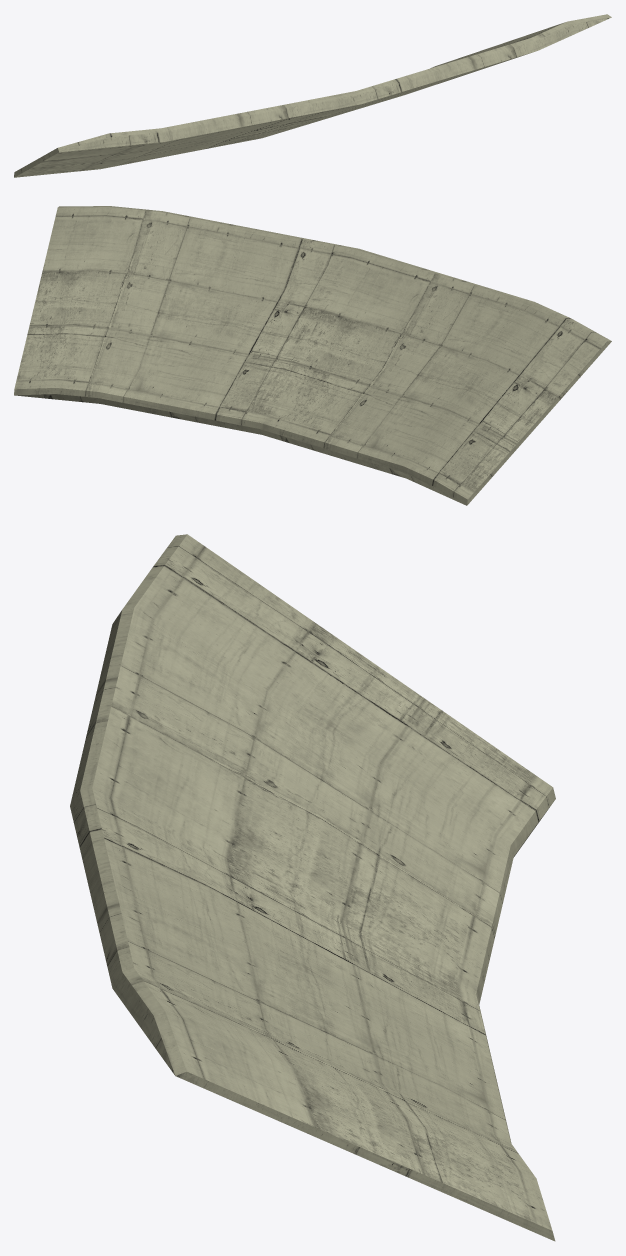
The model's file is SM_Republic_05_Cart02.fbx.
3 renders of one model, top to bottom at view 1: azimuth 30°, elevation 25°; view 2: azimuth 150°, elevation 25°; view 3: azimuth 270°, elevation 25°, orthographic. The views are drawn at different scales.
Parts seen in each view (by area): view 1: SM_Republic_05_Cart02.001; view 2: SM_Republic_05_Cart02.001; view 3: SM_Republic_05_Cart02.001.
Boxes of the visible parts, x1=… form: SM_Republic_05_Cart02.001: x1=14, y1=14, x2=611, y2=177; SM_Republic_05_Cart02.001: x1=14, y1=206, x2=611, y2=505; SM_Republic_05_Cart02.001: x1=70, y1=534, x2=555, y2=1241.
Size of the model in its own units: 1758 by 354 by 669.
